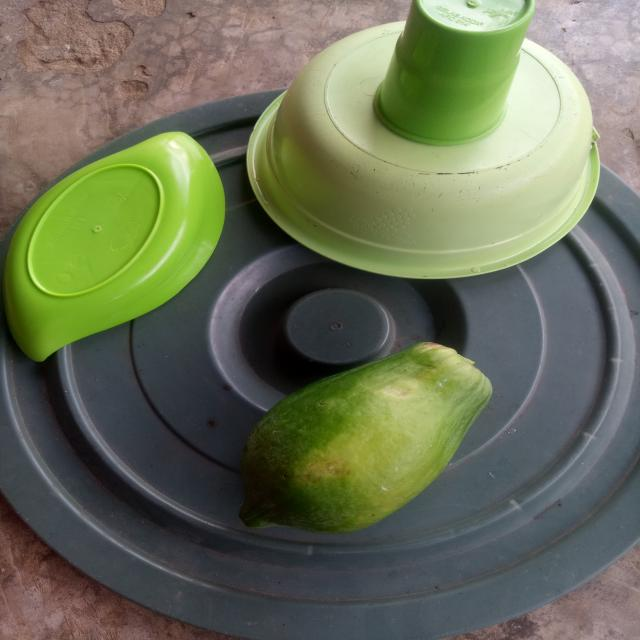Pepaya unrippen: (225, 338, 498, 538)
